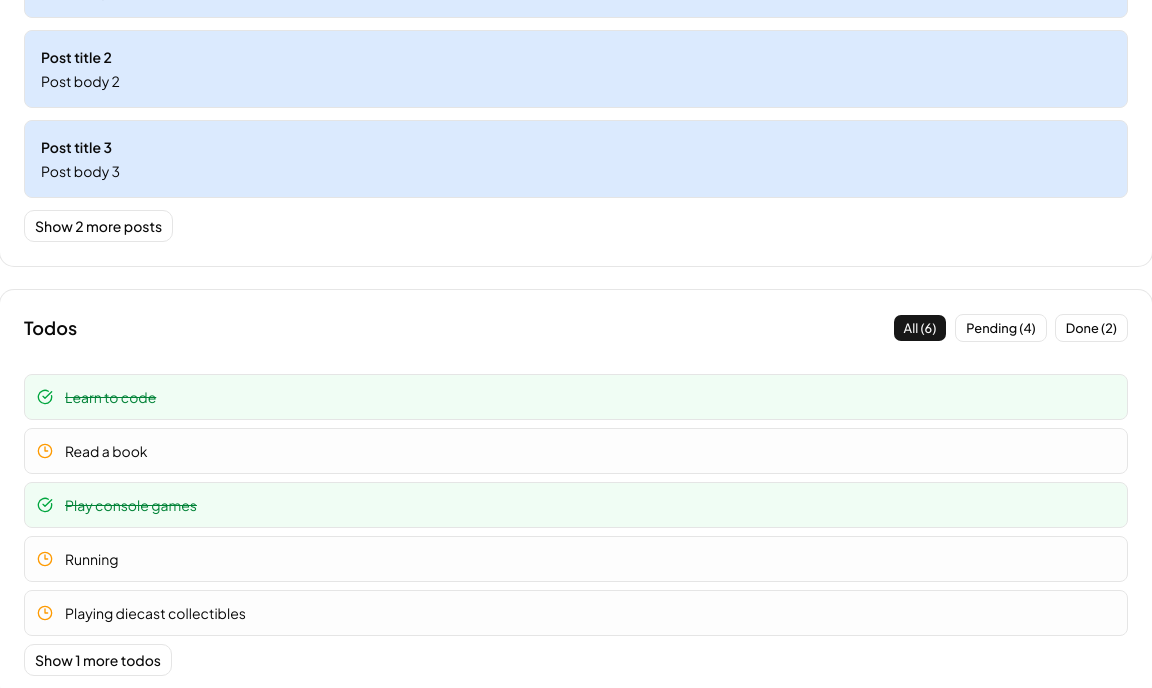
Scenario: User Detail › todos section › filters todos by pending
The image size is (1152, 688).
(page scrolled)
Step 1. Click the button "Pending (4)" → (1001, 328), box [955,314,1047,342]
(page scrolled)
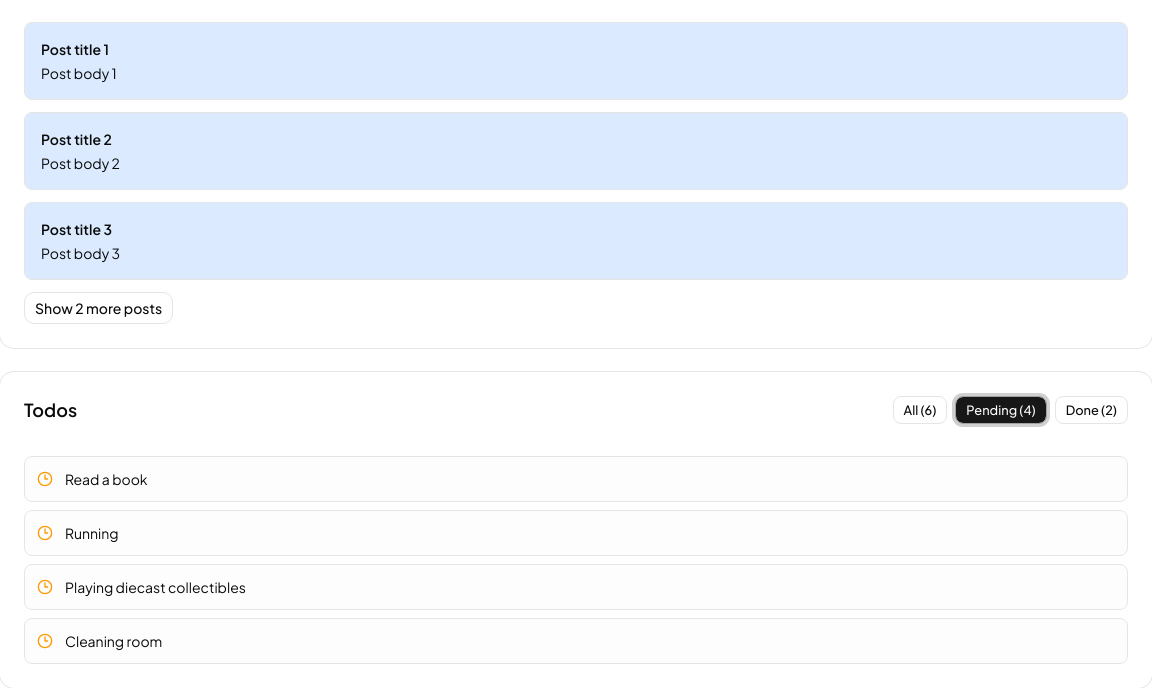
Expected: the text "Read a book" is shown, [65,469,148,489]
Expected: the text "Learn to code" is gone
